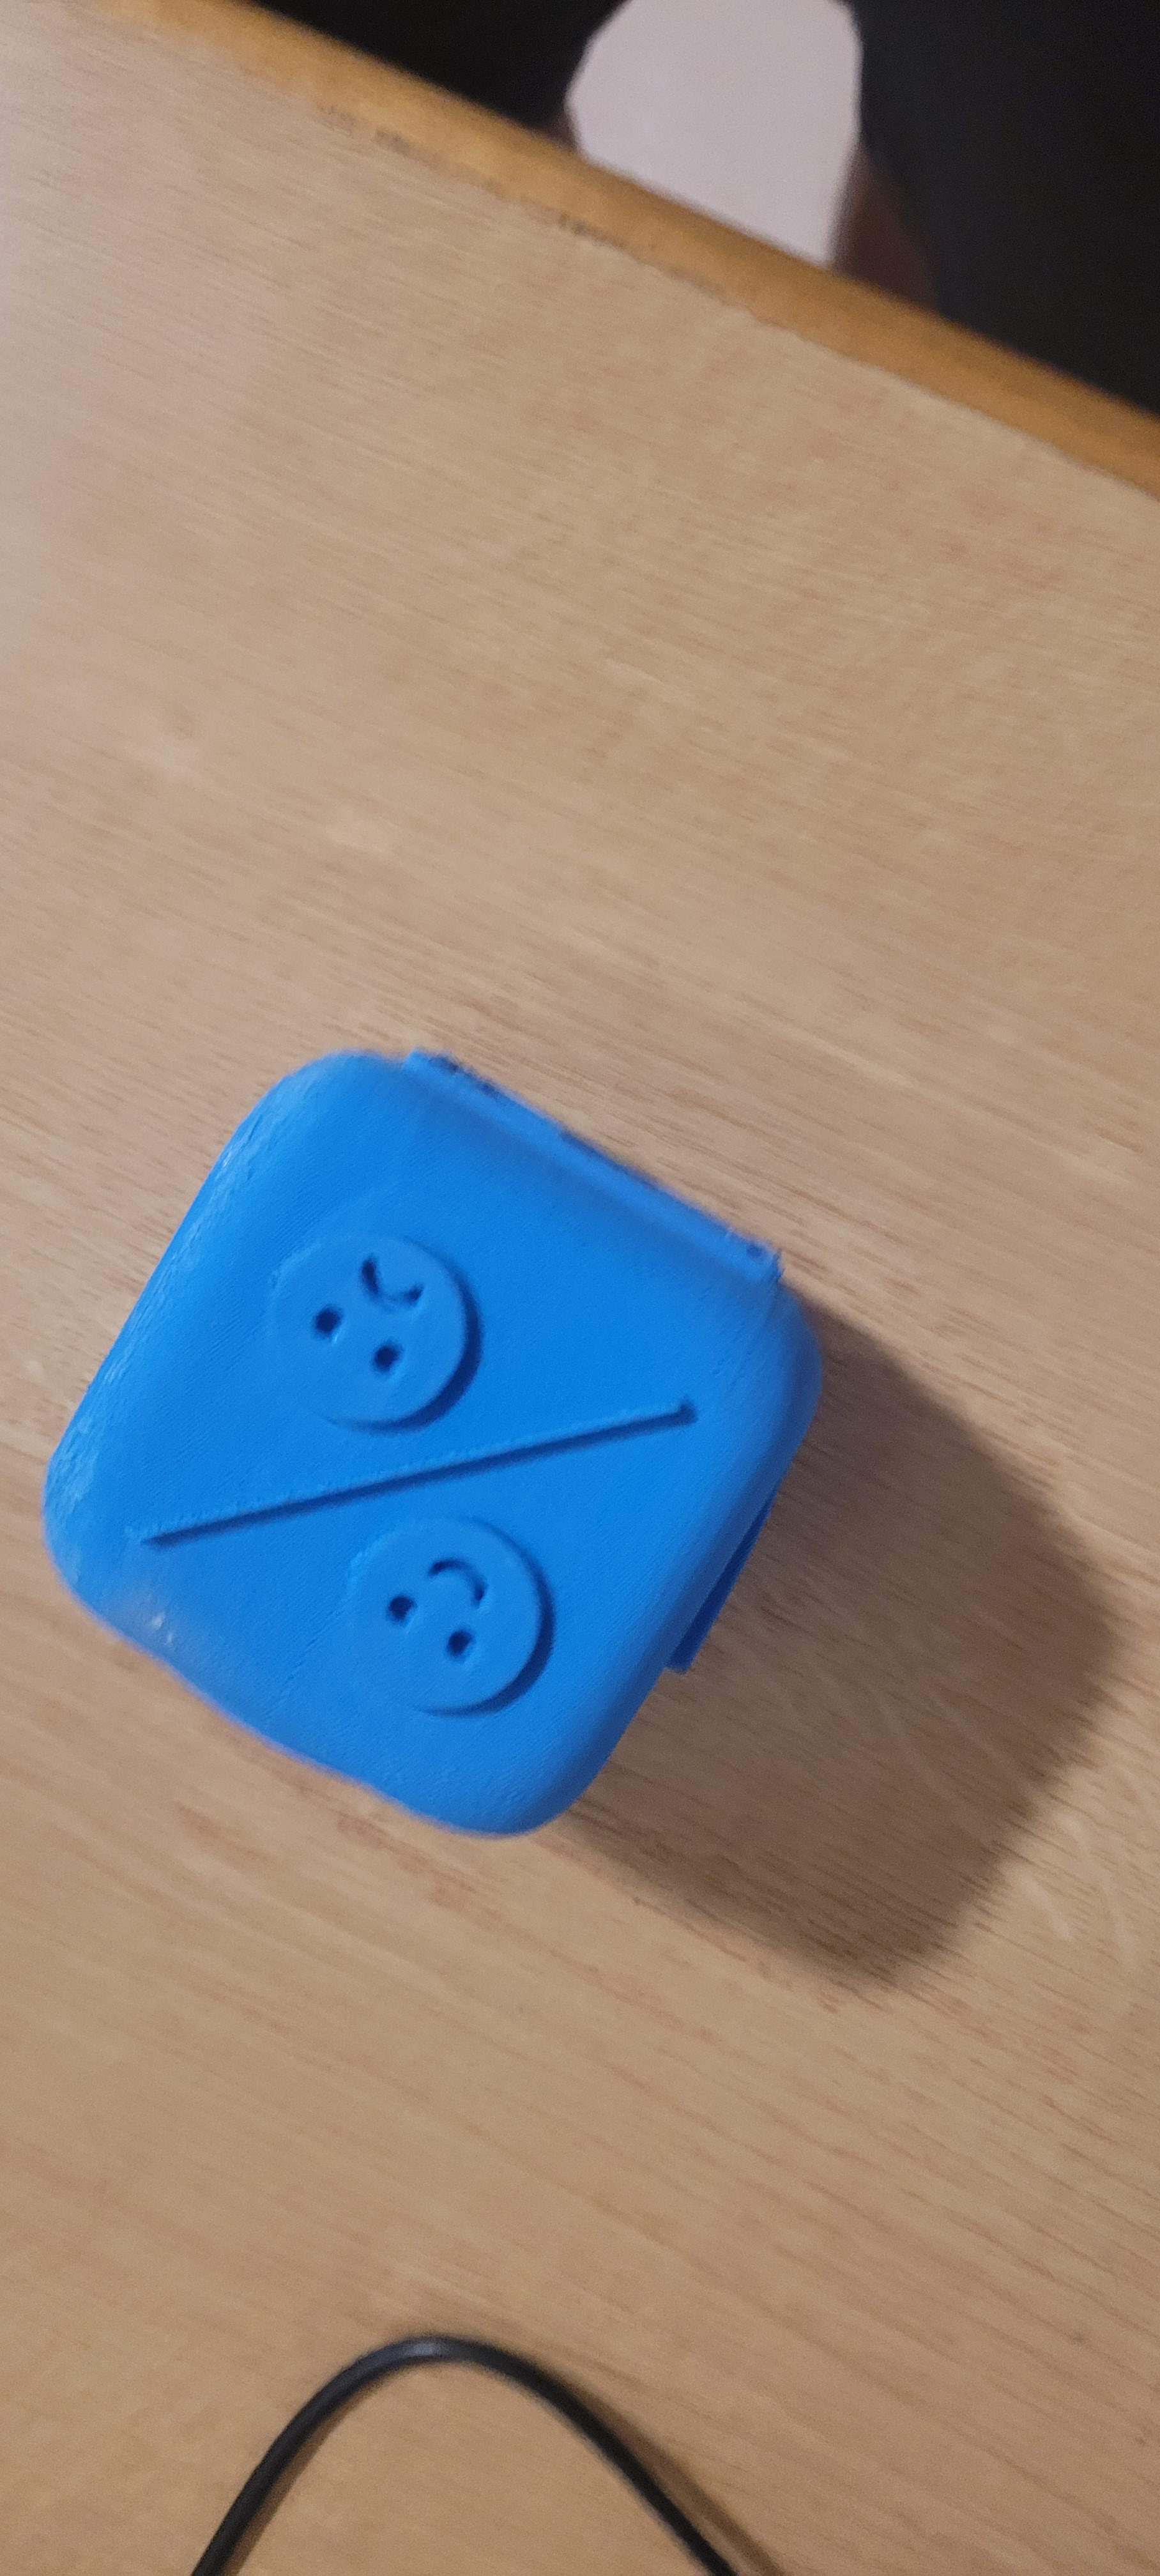Like/Dislike: (53, 1007, 751, 1824)
